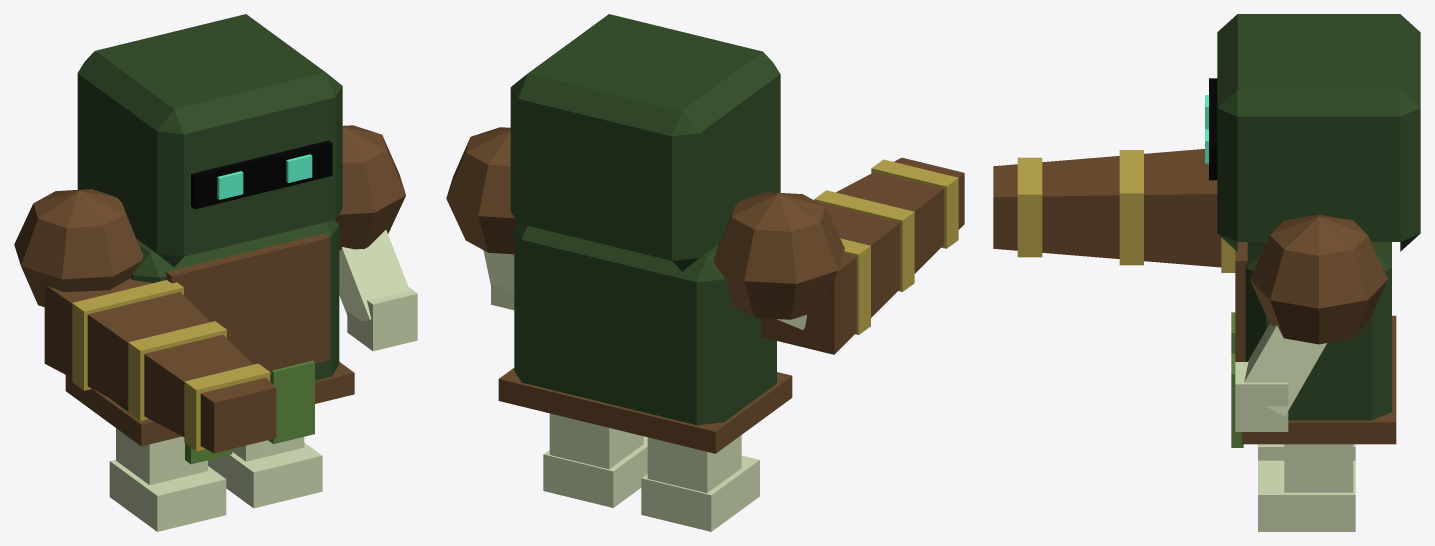
File: breacher_r6.glb
3 views of the same model, side by side, from view 1: azimuth 30°, elevation 25°; view 2: azimuth 150°, elevation 25°; view 3: azimuth 270°, elevation 25° (orthographic). The views are drawn at different scales.
Parts seen in each view (by area): view 1: breacher_r6_mesh; view 2: breacher_r6_mesh; view 3: breacher_r6_mesh.
Boxes of the visible parts, box(x1,y1,x2,y2) form: breacher_r6_mesh: box(14, 14, 417, 531); breacher_r6_mesh: box(446, 14, 964, 531); breacher_r6_mesh: box(993, 14, 1420, 531).
Bounding box in the file's own units: 1.85 × 2 × 1.76.
Materials: 1 (1 with a texture image).
